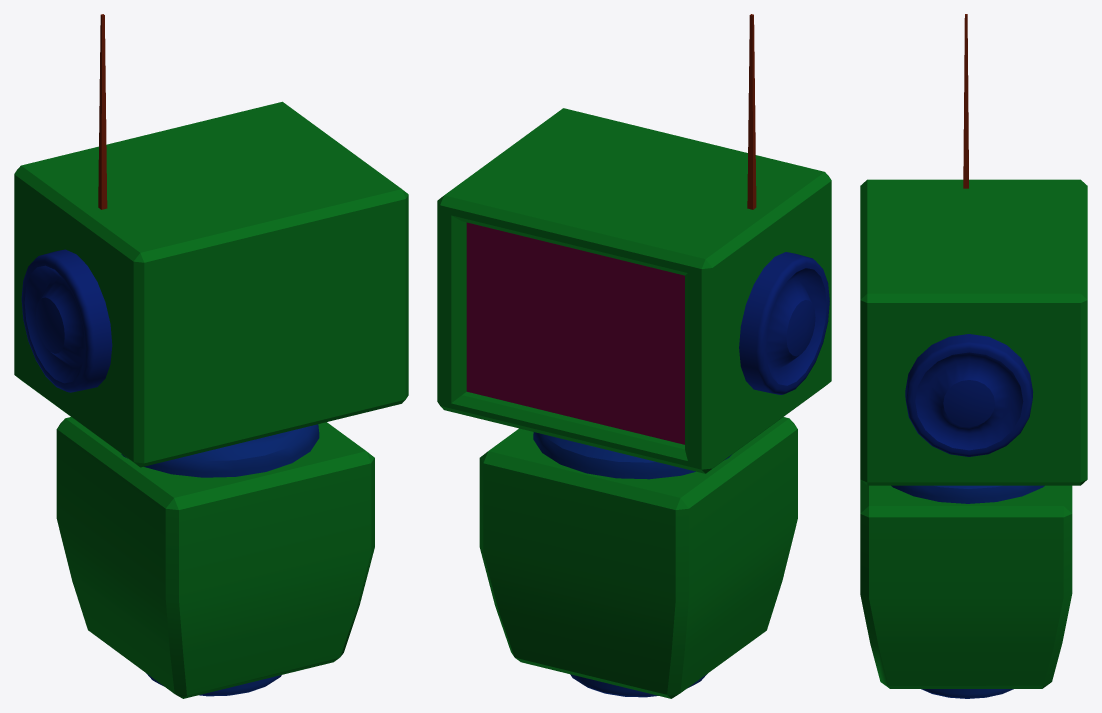
The model's file is ROBOT_V2.fbx.
3 renders of one model, left to right at view 1: azimuth 30°, elevation 25°; view 2: azimuth 150°, elevation 25°; view 3: azimuth 270°, elevation 25°, orthographic. The views are drawn at different scales.
Visible parts, largest first — view 1: pCylinder4; view 2: pCylinder4; view 3: pCylinder4.
Part boxes in pixels (x1=…): pCylinder4: x1=14, y1=14, x2=408, y2=698; pCylinder4: x1=437, y1=14, x2=831, y2=698; pCylinder4: x1=860, y1=14, x2=1087, y2=698.
Bounding box in the file's own units: 1.62 × 3.19 × 1.05.
